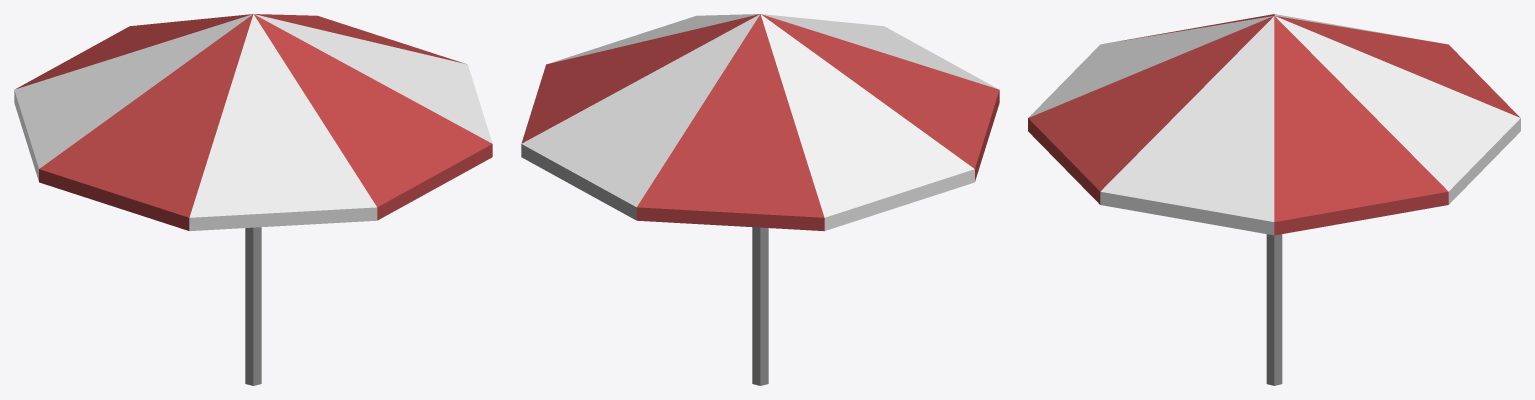
The model's file is Umbrella0.fbx.
3 views of the same model, side by side, from view 1: azimuth 30°, elevation 25°; view 2: azimuth 150°, elevation 25°; view 3: azimuth 270°, elevation 25° (orthographic).
Parts seen in each view (by area): view 1: Umbrella; view 2: Umbrella; view 3: Umbrella.
Part boxes in pixels (x1=…): Umbrella: x1=14, y1=14, x2=492, y2=385; Umbrella: x1=521, y1=14, x2=999, y2=385; Umbrella: x1=1028, y1=14, x2=1520, y2=385.
Size of the model in its own units: 249 by 204 by 249.
